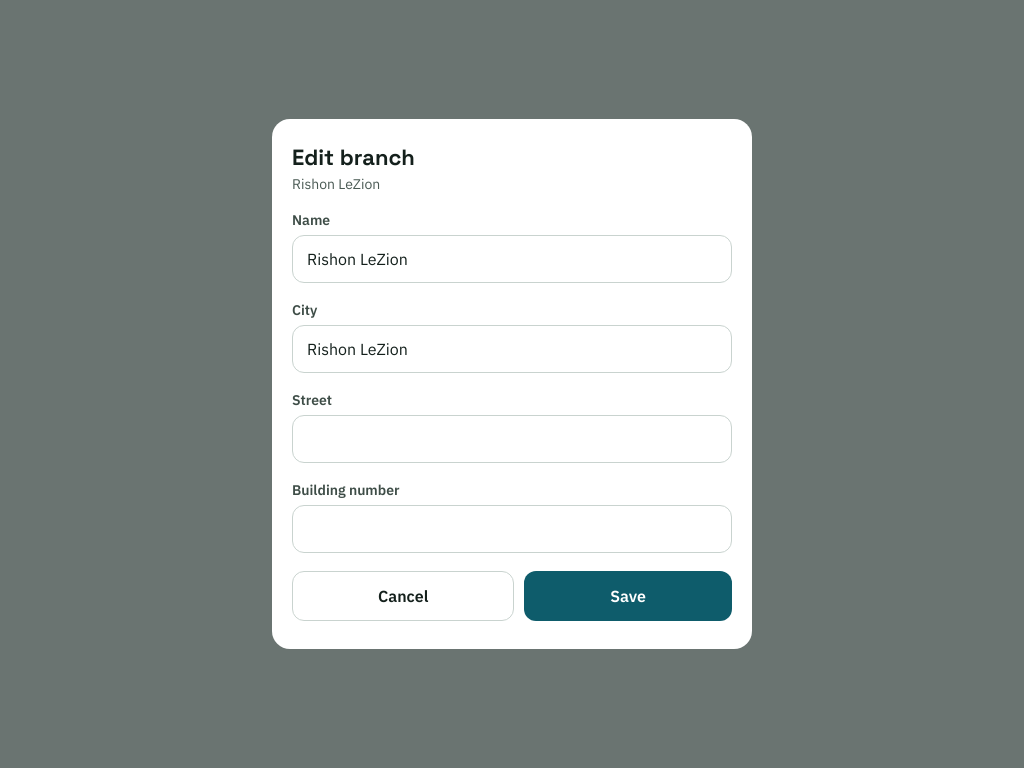
Scenario: BranchEditDialog › shows the backend message for a duplicate branch name
Replace the text in the field labelled "Name" with "Haifa" at point(512, 259), box top-left (292, 235), bottom-right (732, 283)
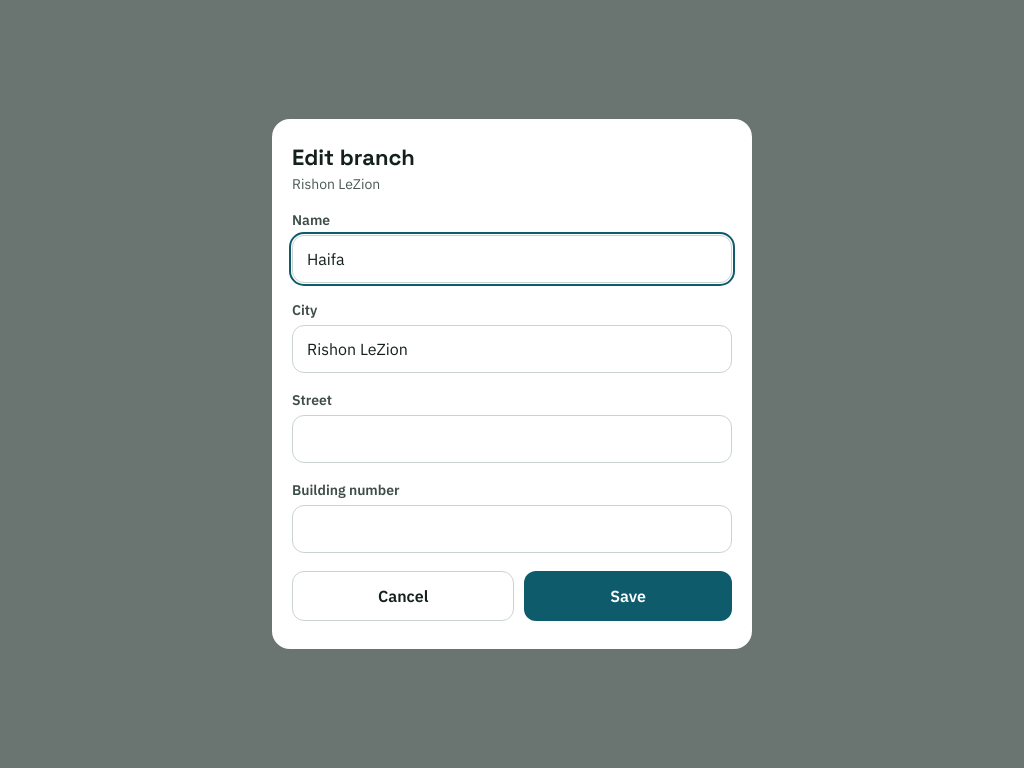
Click the button "Save" at point(628, 596), box top-left (524, 571), bottom-right (732, 621)
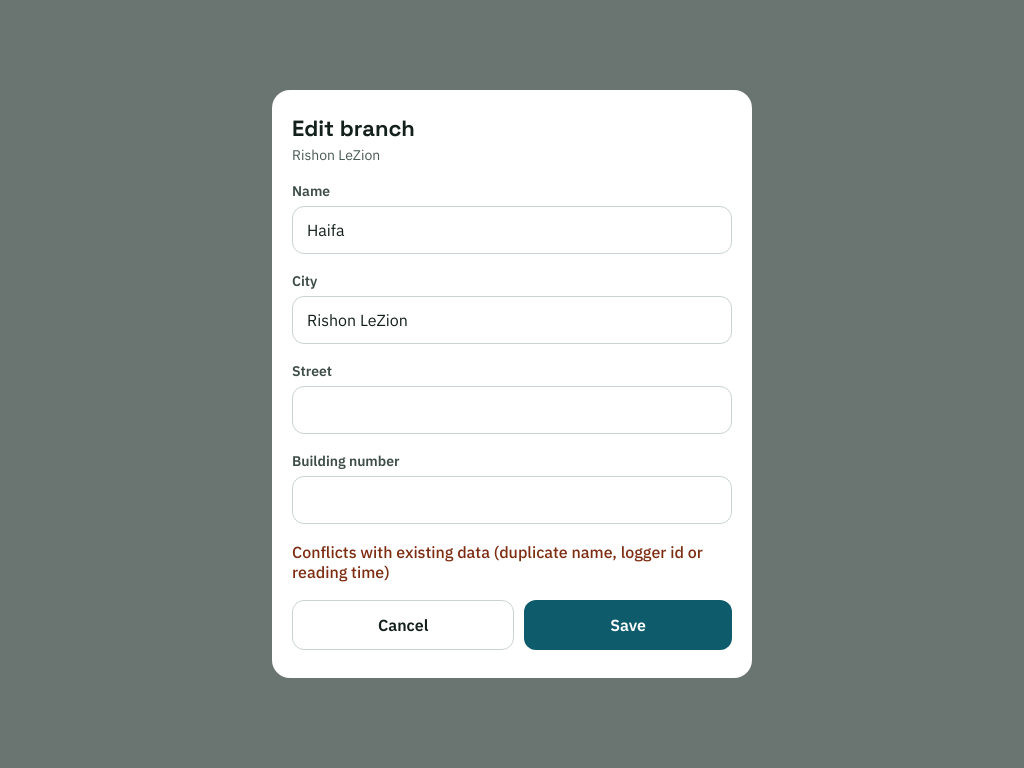
expect the message shows "Conflicts with existing data": met, box top-left (292, 542), bottom-right (703, 582)
